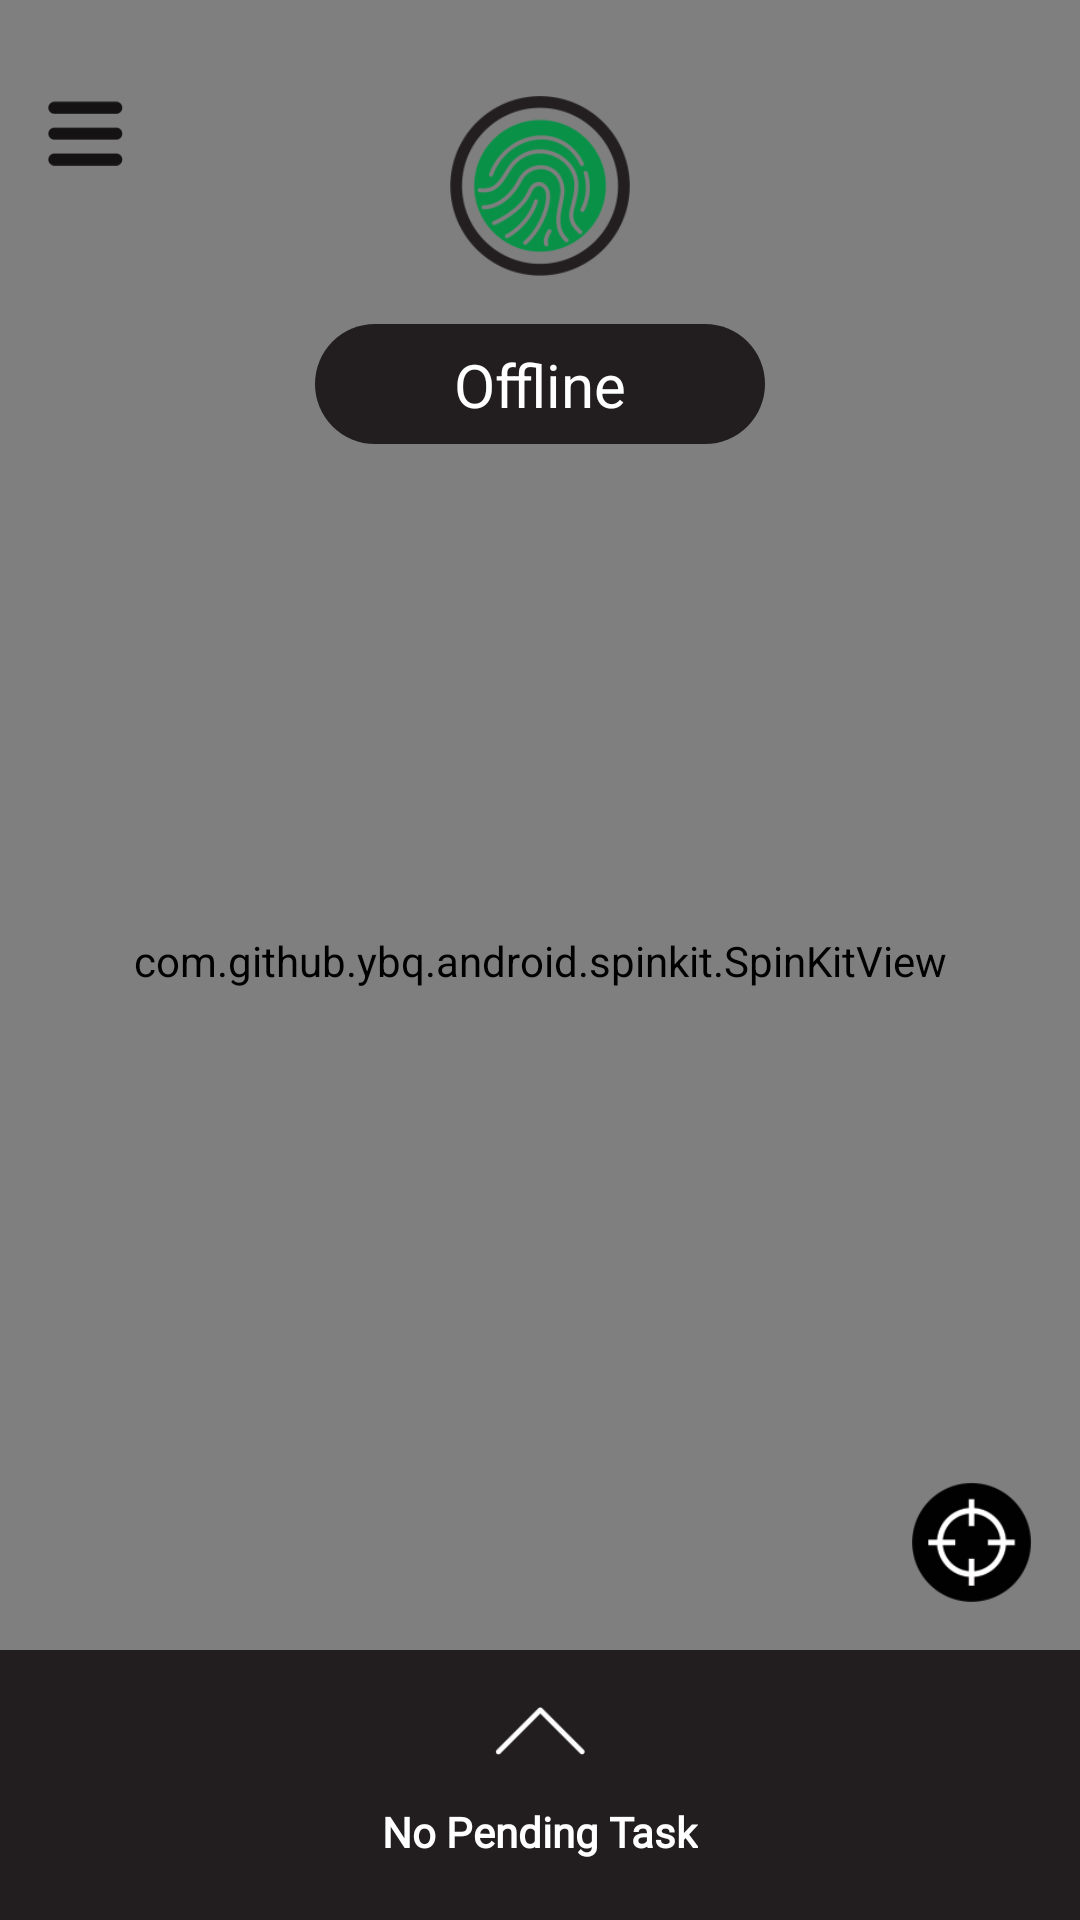

Locate icon controls on the screen. Image size 1080 × 1920, boxes as box=[x1, y1, x2, y2].
current location: box=[912, 1483, 1031, 1602]
side menu: box=[48, 101, 123, 166]
up arrow: box=[496, 1707, 585, 1755]
